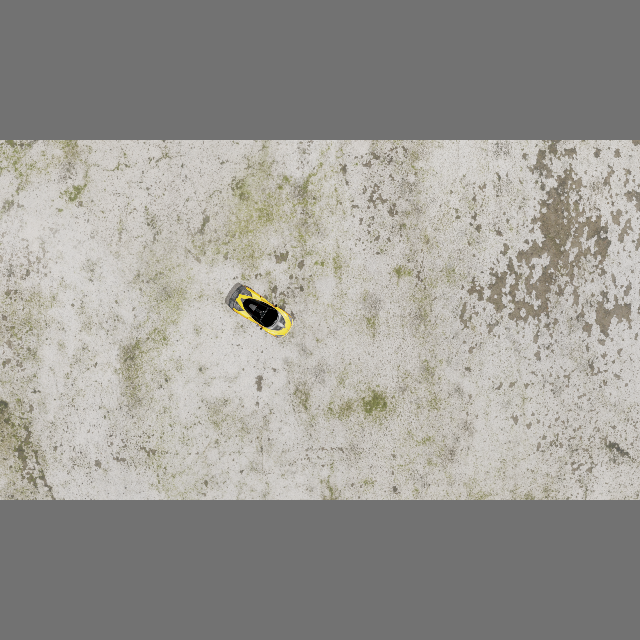car: (224, 281, 298, 343)
